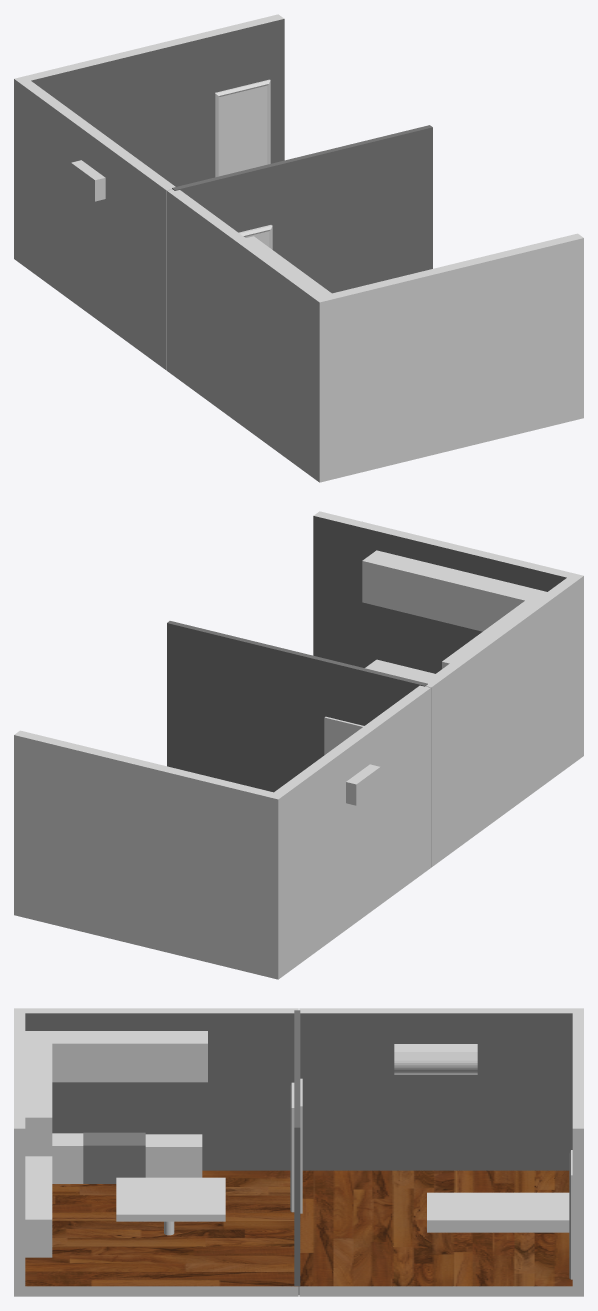
Rendered from house.glb.
The picture shows the model from 3 angles, top to bottom: view 1: azimuth 30°, elevation 25°; view 2: azimuth 150°, elevation 25°; view 3: azimuth 270°, elevation 25°; orthographic projection. The views are drawn at different scales.
Visible parts, largest first — view 1: Cube.004, Cube, Cube.007, Cube.005, Cube.003, Cube.011; view 2: Cube, Cube.004, Cube.007, Cube.010, Cube.003, Cube.006, Cube.011, Cube.009; view 3: Cube, Cube.004, Cube.011, Cube.002, Cube.012, Cube.010, Cube.008, Cube.009, Cube.001, Cube.013, Cube.007, Cube.014 (+2 smaller).
Part boxes in pixels (x1=…): Cube.004: x1=167, y1=189, x2=583, y2=482; Cube: x1=14, y1=14, x2=284, y2=370; Cube.007: x1=172, y1=125, x2=432, y2=293; Cube.005: x1=214, y1=79, x2=270, y2=177; Cube.003: x1=71, y1=160, x2=105, y2=201; Cube.011: x1=246, y1=236, x2=331, y2=295; Cube: x1=14, y1=685, x2=430, y2=979; Cube.004: x1=313, y1=511, x2=583, y2=867; Cube.007: x1=167, y1=621, x2=427, y2=792; Cube.010: x1=362, y1=550, x2=546, y2=631; Cube.003: x1=346, y1=764, x2=380, y2=805; Cube.006: x1=324, y1=716, x2=363, y2=754; Cube.011: x1=442, y1=591, x2=546, y2=668; Cube.009: x1=365, y1=659, x2=434, y2=682; Cube: x1=299, y1=1008, x2=583, y2=1296; Cube.004: x1=14, y1=1008, x2=298, y2=1296; Cube.011: x1=25, y1=1031, x2=207, y2=1082; Cube.002: x1=427, y1=1192, x2=569, y2=1232; Cube.012: x1=116, y1=1177, x2=225, y2=1221; Cube.010: x1=25, y1=1039, x2=52, y2=1156; Cube.008: x1=83, y1=1132, x2=145, y2=1183; Cube.009: x1=25, y1=1156, x2=52, y2=1257; Cube.001: x1=394, y1=1044, x2=477, y2=1074; Cube.013: x1=145, y1=1134, x2=202, y2=1177; Cube.007: x1=294, y1=1010, x2=300, y2=1294; Cube.014: x1=52, y1=1133, x2=83, y2=1183.
Bounding box in the file's own units: 9 × 5.67 × 17.33.
Materials: 7 (2 with a texture image).
